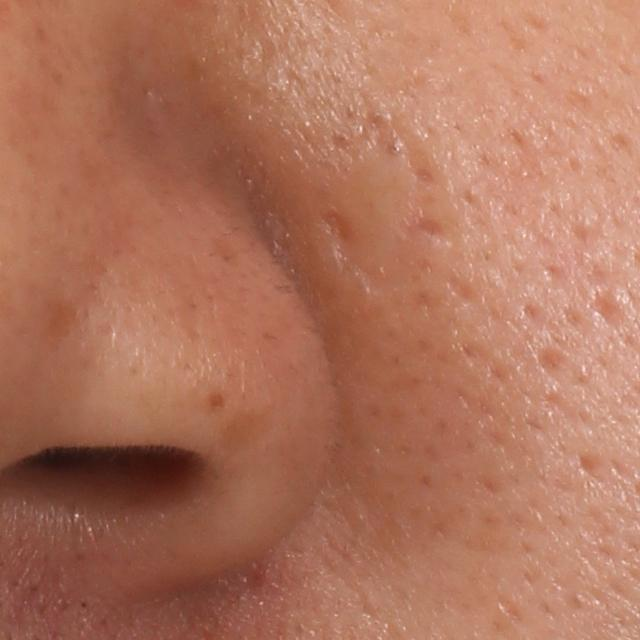atrophic_scar: (594, 287, 634, 323), (448, 273, 487, 308), (409, 208, 453, 239), (321, 208, 353, 247), (535, 346, 568, 380), (575, 446, 603, 481)
